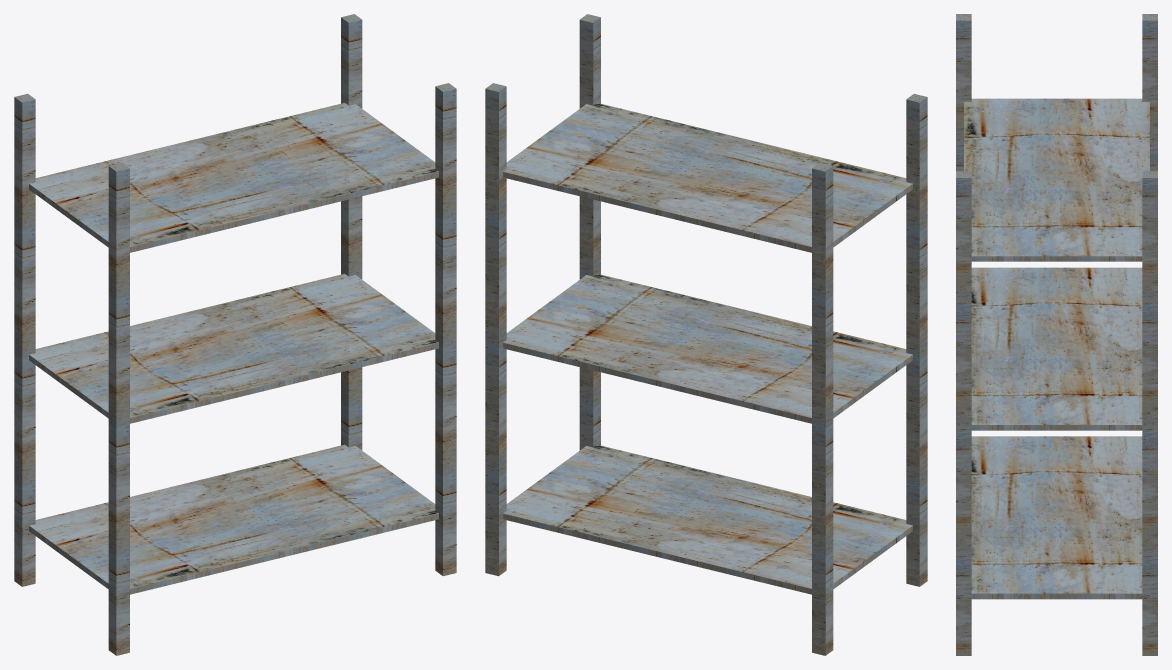
The model's file is shelf.obj.
The picture shows the model from 3 angles, left to right: view 1: azimuth 30°, elevation 25°; view 2: azimuth 150°, elevation 25°; view 3: azimuth 270°, elevation 25°; orthographic projection.
Parts seen in each view (by area): view 1: Cube.6, Cube.4, Cube.5, Cube, Cube.1, Cube.3, Cube.2; view 2: Cube.6, Cube.4, Cube.5, Cube.3, Cube.2, Cube, Cube.1; view 3: Cube.6, Cube.5, Cube.4, Cube.2, Cube.1, Cube.3, Cube.
Boxes of the visible parts, x1,y1,x2,y2 form: Cube.6: (29, 103, 438, 252); Cube.4: (29, 273, 438, 423); Cube.5: (29, 444, 438, 594); Cube: (108, 163, 129, 655); Cube.1: (435, 83, 456, 576); Cube.3: (14, 93, 35, 586); Cube.2: (341, 14, 362, 450); Cube.6: (503, 103, 912, 252); Cube.4: (503, 273, 912, 423); Cube.5: (503, 444, 912, 594); Cube.3: (812, 163, 833, 655); Cube.2: (485, 83, 506, 576); Cube: (906, 93, 927, 586); Cube.1: (579, 14, 600, 450); Cube.6: (964, 98, 1149, 261); Cube.5: (971, 436, 1142, 599); Cube.4: (971, 267, 1142, 430); Cube.2: (1142, 171, 1157, 655); Cube.1: (956, 171, 971, 655); Cube.3: (1142, 14, 1157, 171); Cube: (956, 14, 971, 171).
Size of the model in its own units: 1.25 by 1.7 by 0.65.
Materials: 1 (1 with a texture image).
